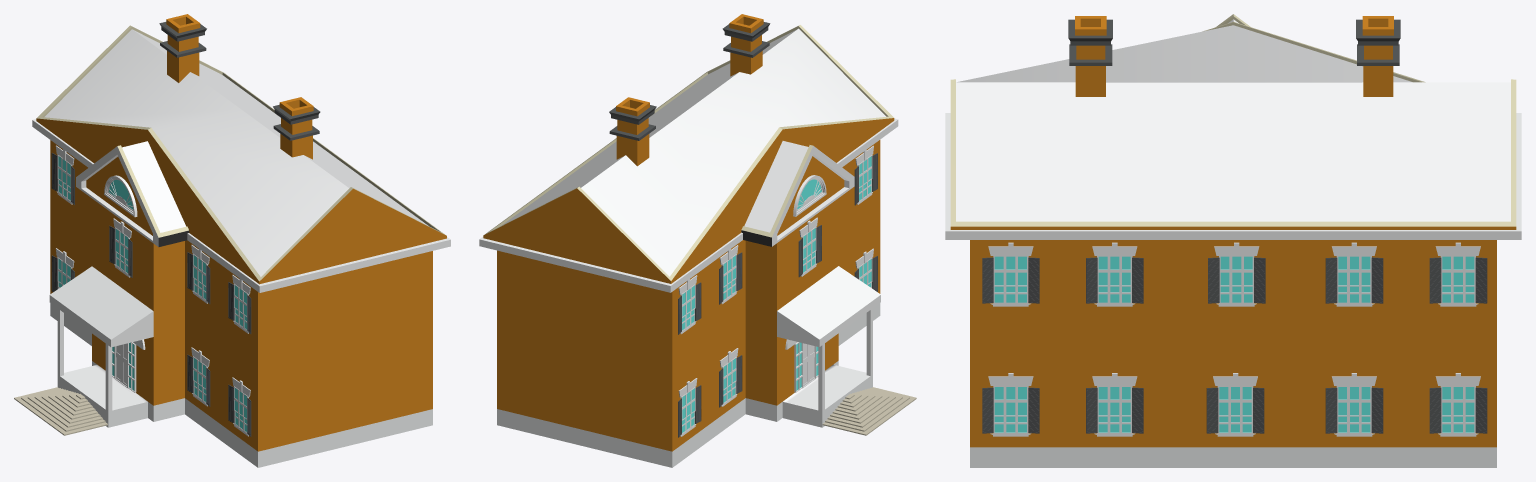
File: Bora_'.fbx
3 renders of one model, left to right at view 1: azimuth 30°, elevation 25°; view 2: azimuth 150°, elevation 25°; view 3: azimuth 270°, elevation 25°, orthographic. The views are drawn at different scales.
Parts seen in each view (by area): view 1: Cube; view 2: Cube; view 3: Cube.
Boxes of the visible parts, x1,y1,x2,y2 form: Cube: (14, 14, 450, 467); Cube: (479, 14, 916, 467); Cube: (945, 14, 1521, 467).
Size of the model in its own units: 1495 by 1476 by 1976.
